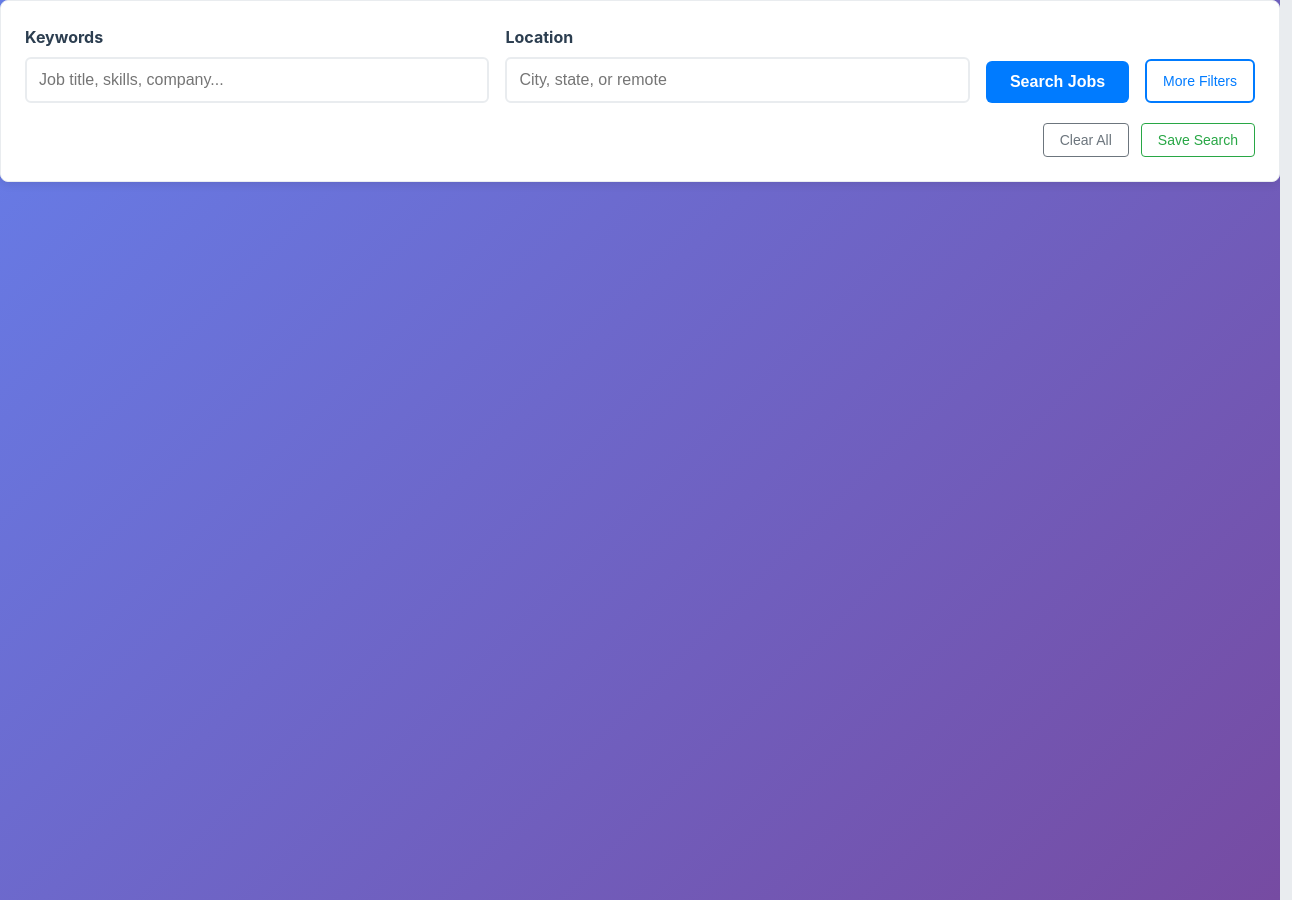
Test case: JobSearchComponent › shows advanced filters when toggle is clicked
Click the button "More Filters": (1200, 81) [1145,59,1255,103]
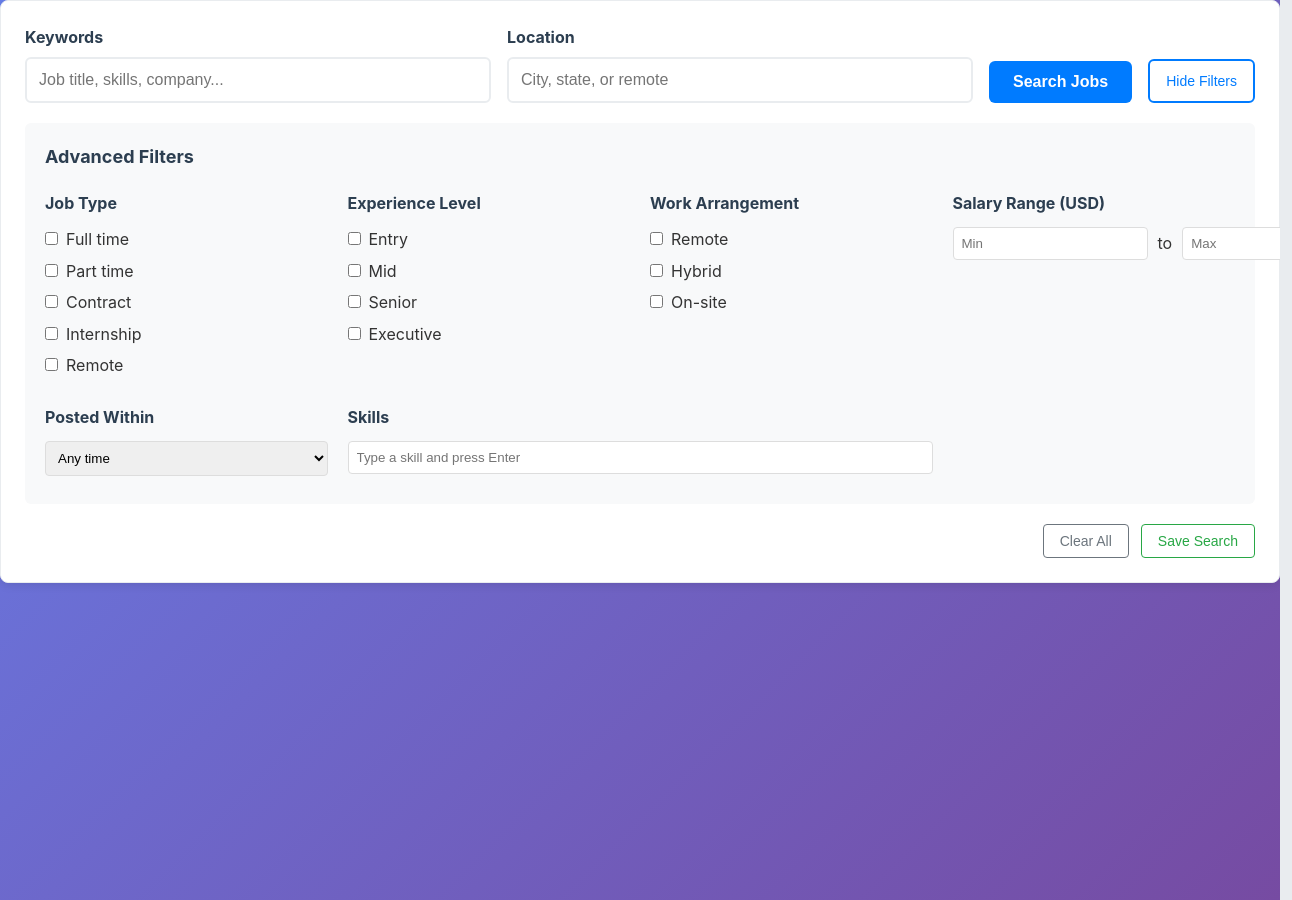
Expected: the heading "Advanced Filters" is shown, [45,146,194,167]
Expected: the text "Job Type" is shown, [45,193,117,213]
Expected: the text "Experience Level" is shown, [348,193,481,213]
